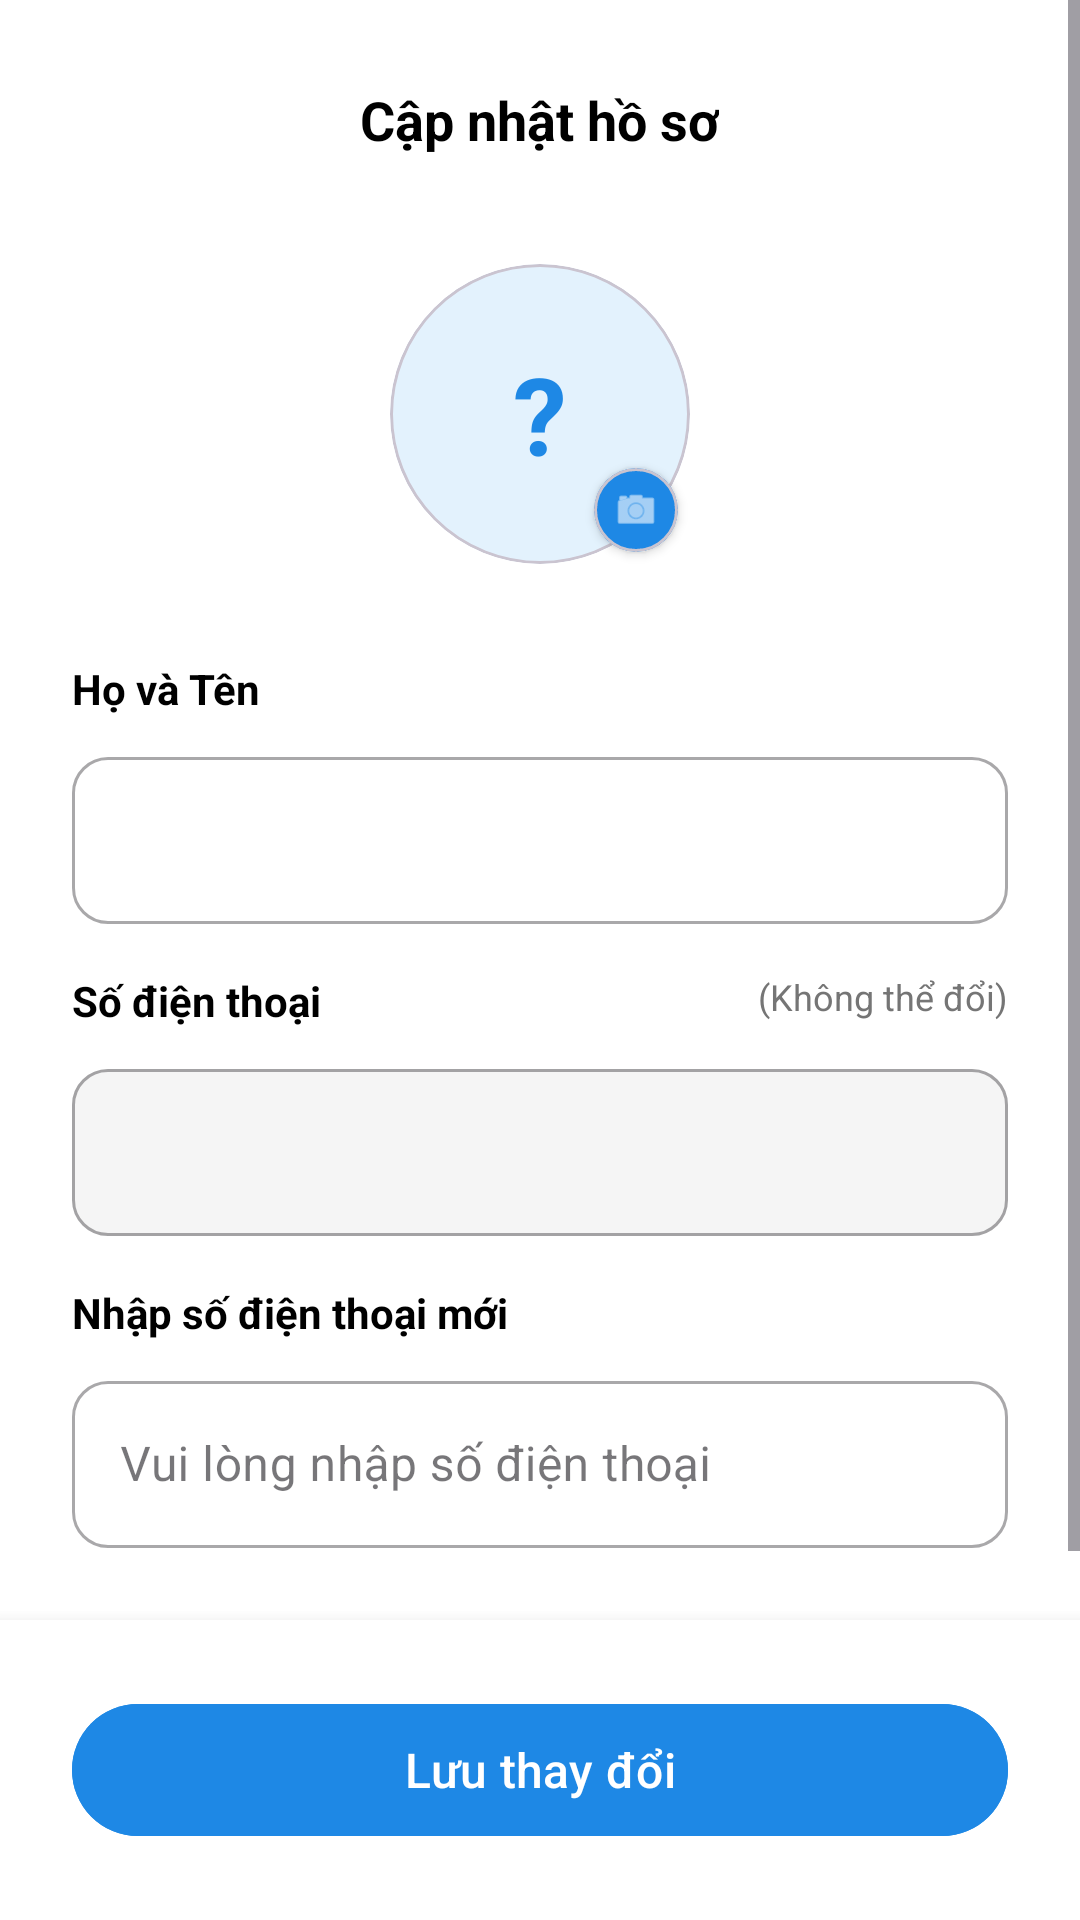

Where to tap for icons on this 1080×1920 app screen, as [x,y]:
camera: [636,510]
